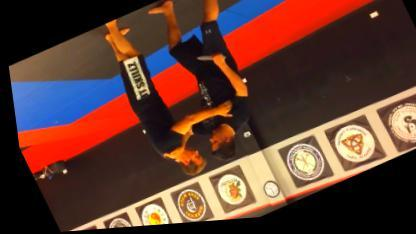knife: (192, 49, 225, 72)
